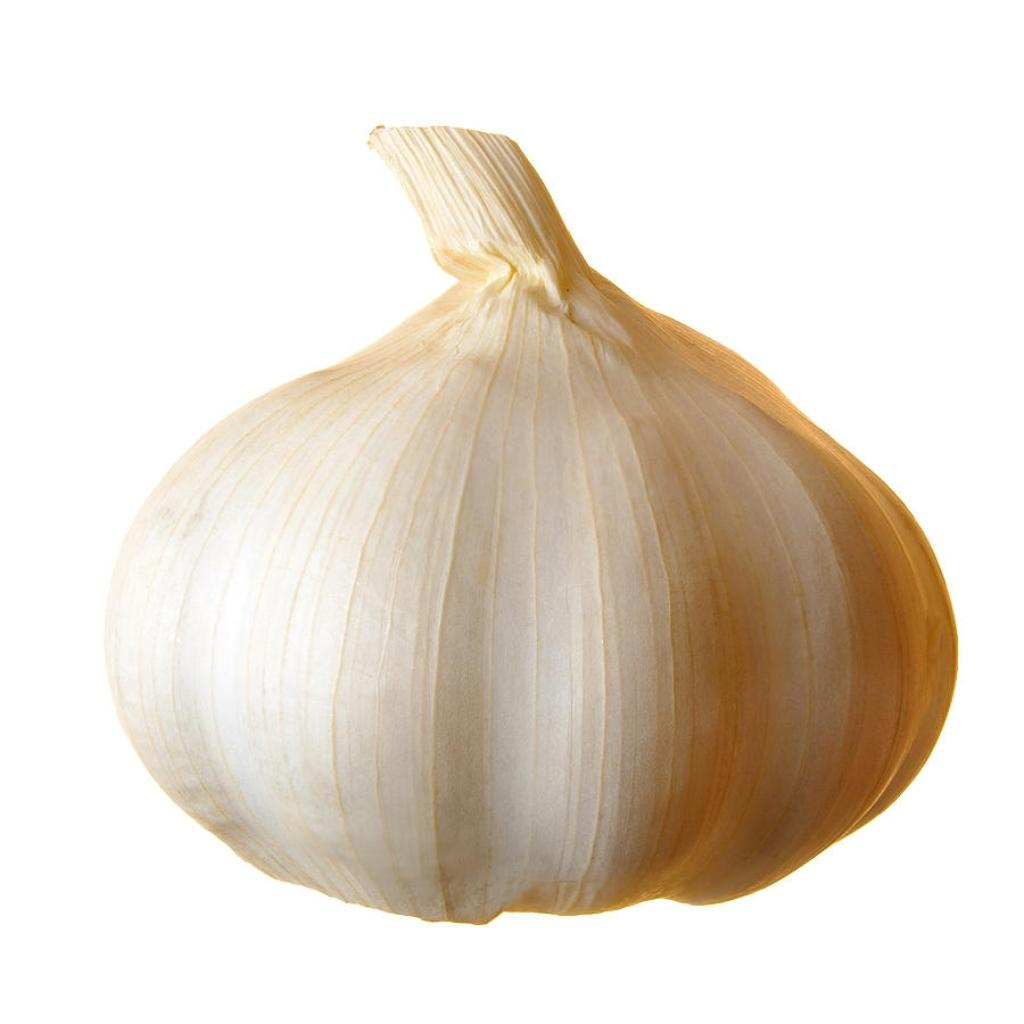garlic: (106, 126, 955, 920)
